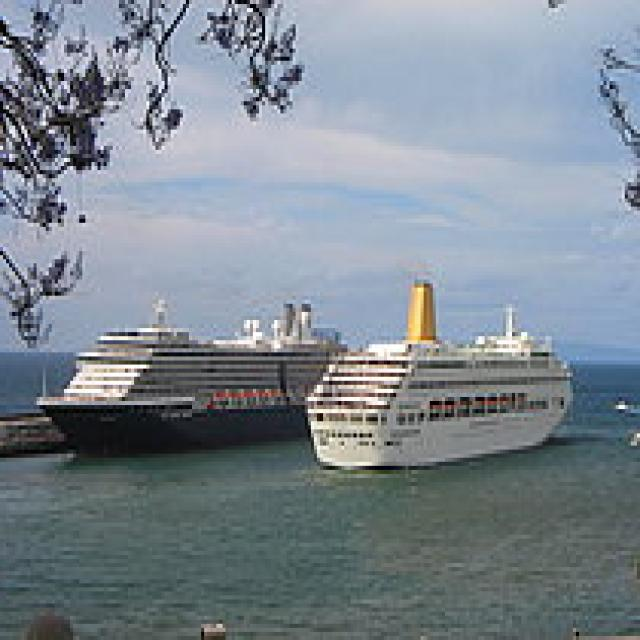Cruise: (305, 271, 582, 470), (37, 292, 360, 458)
